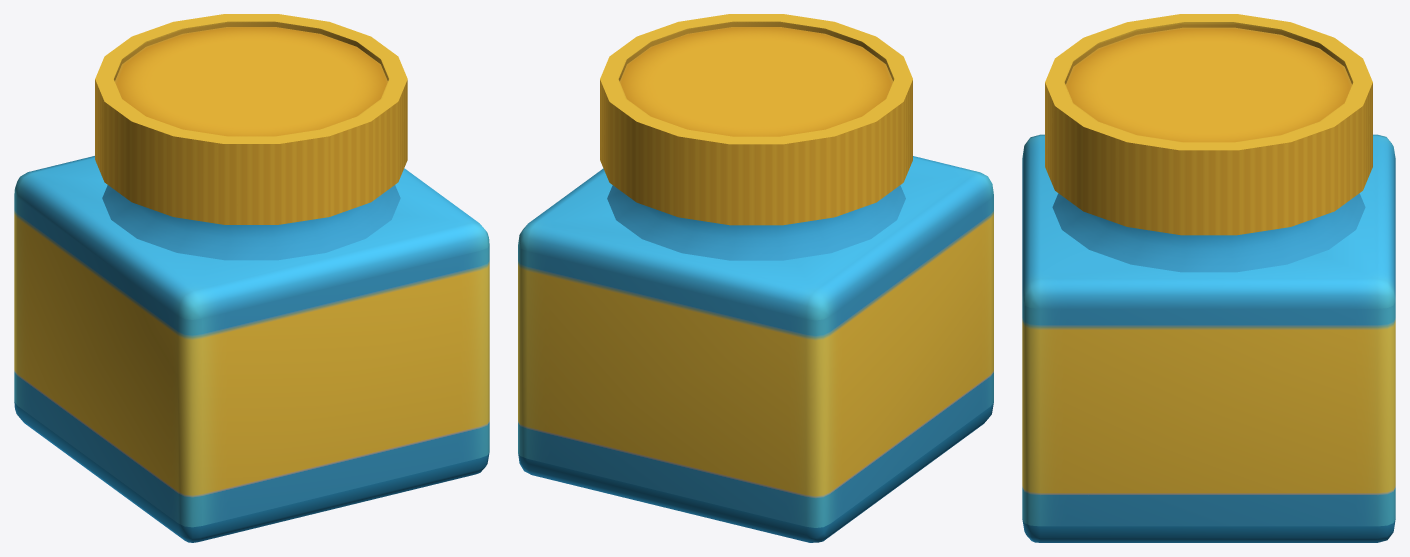
The model's file is ink.FBX.
The picture shows the model from 3 angles, left to right: view 1: azimuth 30°, elevation 25°; view 2: azimuth 150°, elevation 25°; view 3: azimuth 270°, elevation 25°; orthographic projection. The views are drawn at different scales.
Parts seen in each view (by area): view 1: ink; view 2: ink; view 3: ink.
Boxes of the visible parts, x1,y1,x2,y2 form: ink: (14,14,489,542); ink: (518,14,993,542); ink: (1022,14,1395,542).
Bounding box in the file's own units: 26.86 × 30.76 × 26.86.
